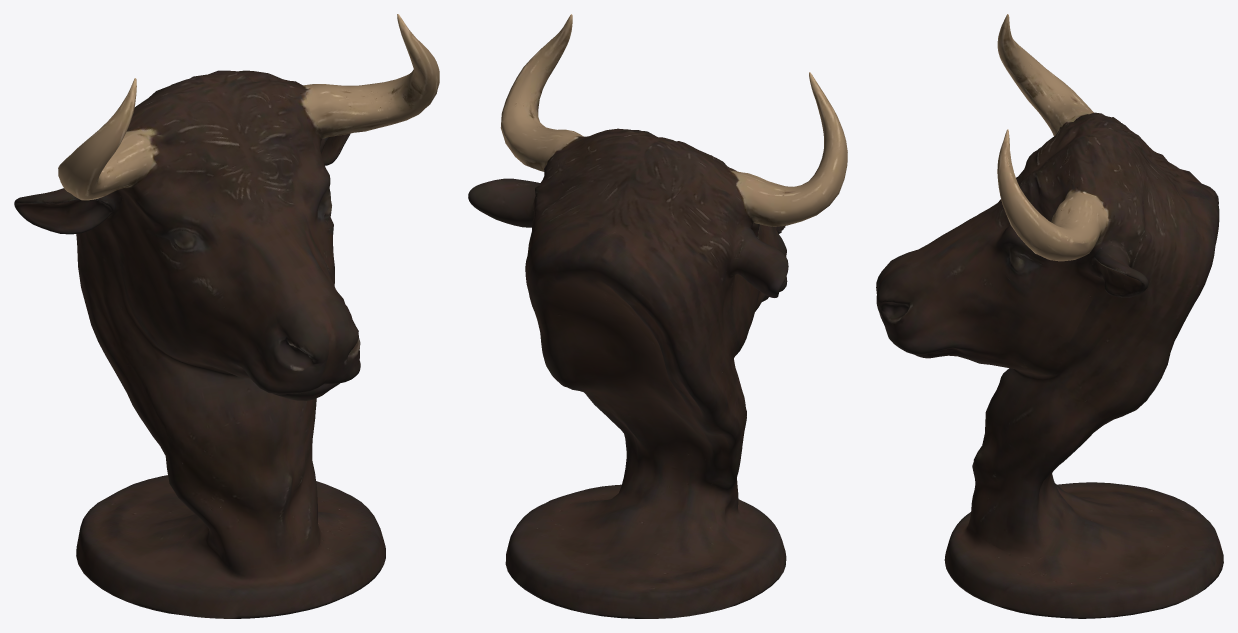
Rendered from bull_head.glb.
3 renders of one model, left to right at view 1: azimuth 30°, elevation 25°; view 2: azimuth 150°, elevation 25°; view 3: azimuth 270°, elevation 25°, orthographic. The views are drawn at different scales.
Parts seen in each view (by area): view 1: bull_head; view 2: bull_head; view 3: bull_head.
Part boxes in pixels (x1,y1,x2,y2): bull_head: (14, 14, 439, 618); bull_head: (468, 14, 847, 618); bull_head: (876, 14, 1223, 618).
Size of the model in its own units: 0.3064 by 0.433 by 0.2807.
1 material, 1 textured.
